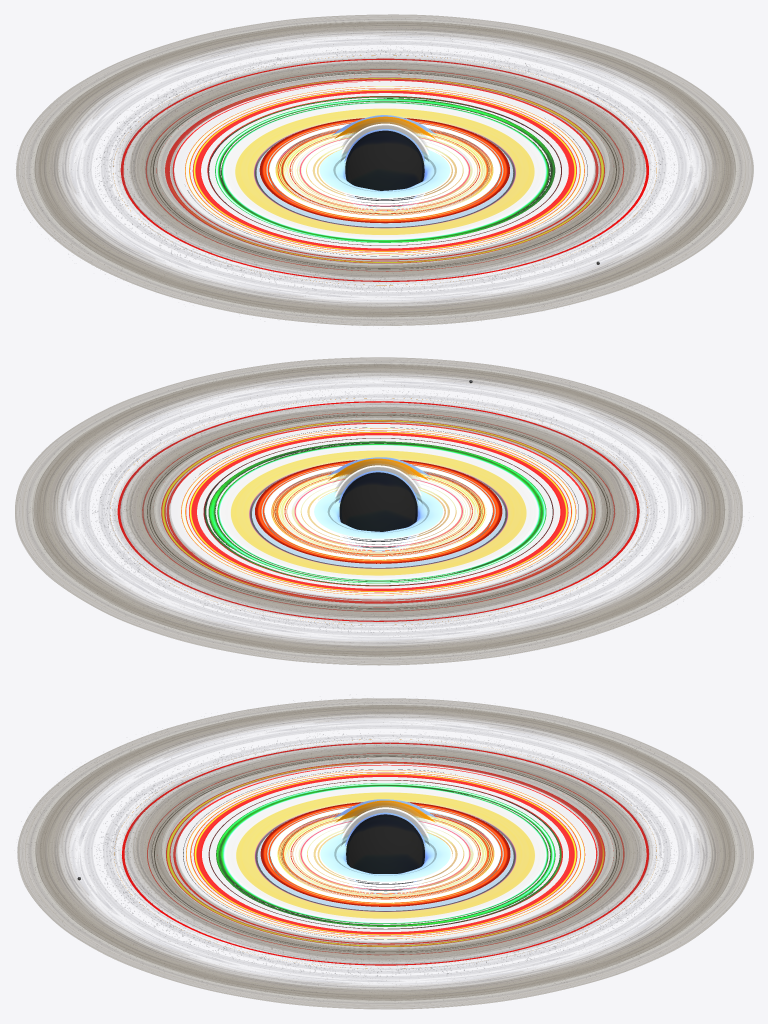
The picture shows the model from 3 angles, top to bottom: view 1: azimuth 30°, elevation 25°; view 2: azimuth 150°, elevation 25°; view 3: azimuth 270°, elevation 25°; orthographic projection.
Visible parts, largest first — view 1: black hole_ring, black hole; view 2: black hole_ring, black hole; view 3: black hole_ring, black hole.
Boxes of the visible parts, x1,y1,x2,y2 form: black hole_ring: (16, 14, 753, 325); black hole: (113, 55, 656, 285); black hole_ring: (15, 357, 742, 665); black hole: (110, 398, 647, 624); black hole_ring: (17, 698, 753, 1009); black hole: (114, 739, 656, 968).
Bounding box in the file's own units: 3328 × 467 × 3298.
Materials: 9 (7 with a texture image).
